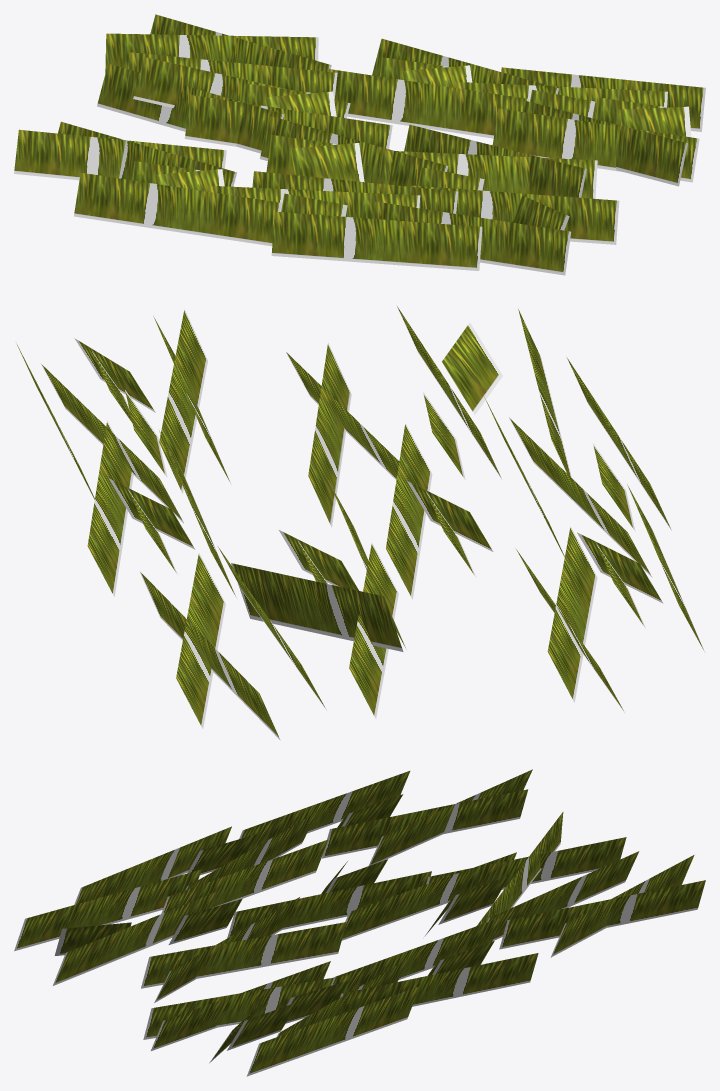
Rendered from xzl_cao1_zu.fbx.
The picture shows the model from 3 angles, top to bottom: view 1: azimuth 30°, elevation 25°; view 2: azimuth 150°, elevation 25°; view 3: azimuth 270°, elevation 25°; orthographic projection. The views are drawn at different scales.
Visible parts, largest first — view 1: xzl_cao_zu01; view 2: xzl_cao_zu01; view 3: xzl_cao_zu01.
Boxes of the visible parts, x1,y1,x2,y2 form: xzl_cao_zu01: (14, 14, 705, 275); xzl_cao_zu01: (17, 305, 704, 740); xzl_cao_zu01: (14, 769, 705, 1076).
Bounding box in the file's own units: 3541 × 525 × 3642.
